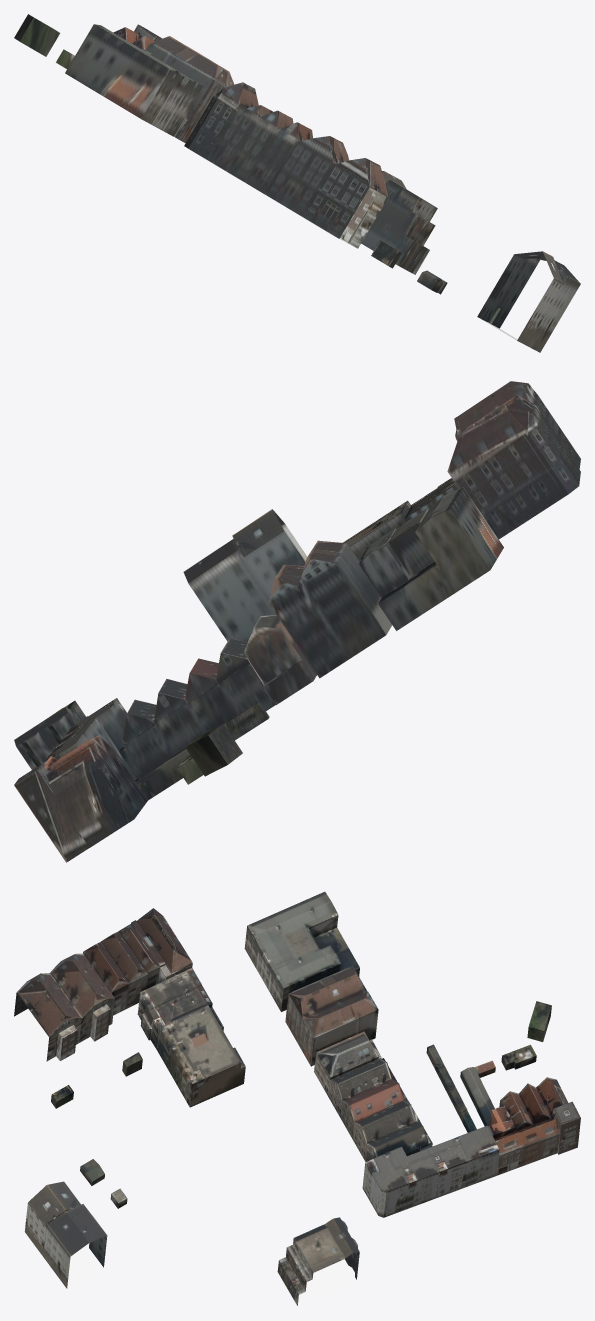
The picture shows the model from 3 angles, top to bottom: view 1: azimuth 30°, elevation 25°; view 2: azimuth 150°, elevation 25°; view 3: azimuth 270°, elevation 25°; orthographic projection. The views are drawn at different scales.
Parts seen in each view (by area): view 1: mesh; view 2: mesh; view 3: mesh.
Part boxes in pixels (bbox=[...]): mesh: bbox=[14, 14, 580, 352]; mesh: bbox=[14, 381, 580, 862]; mesh: bbox=[14, 891, 580, 1306].
Bounding box in the file's own units: 87.38 × 69.94 × 128.
80 materials, 79 textured.
